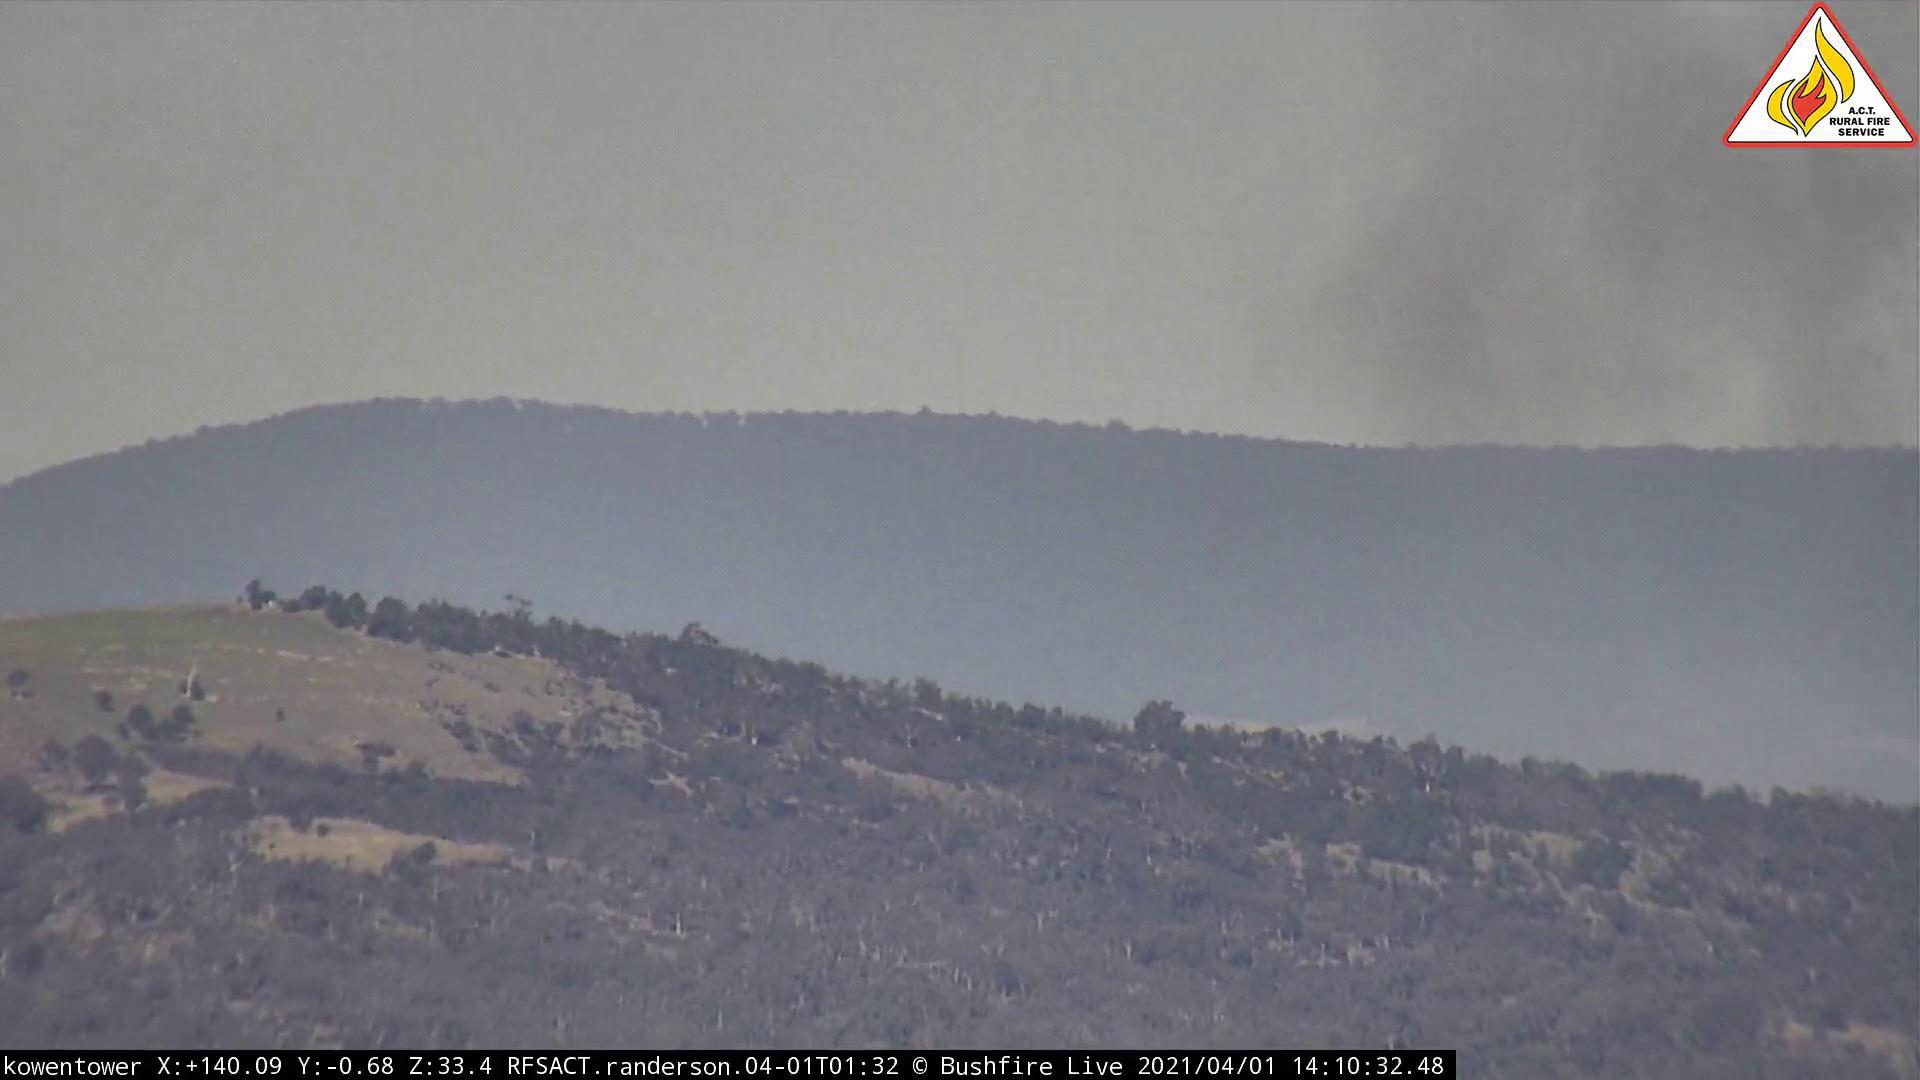Smoke: (1282, 3, 1920, 770)
